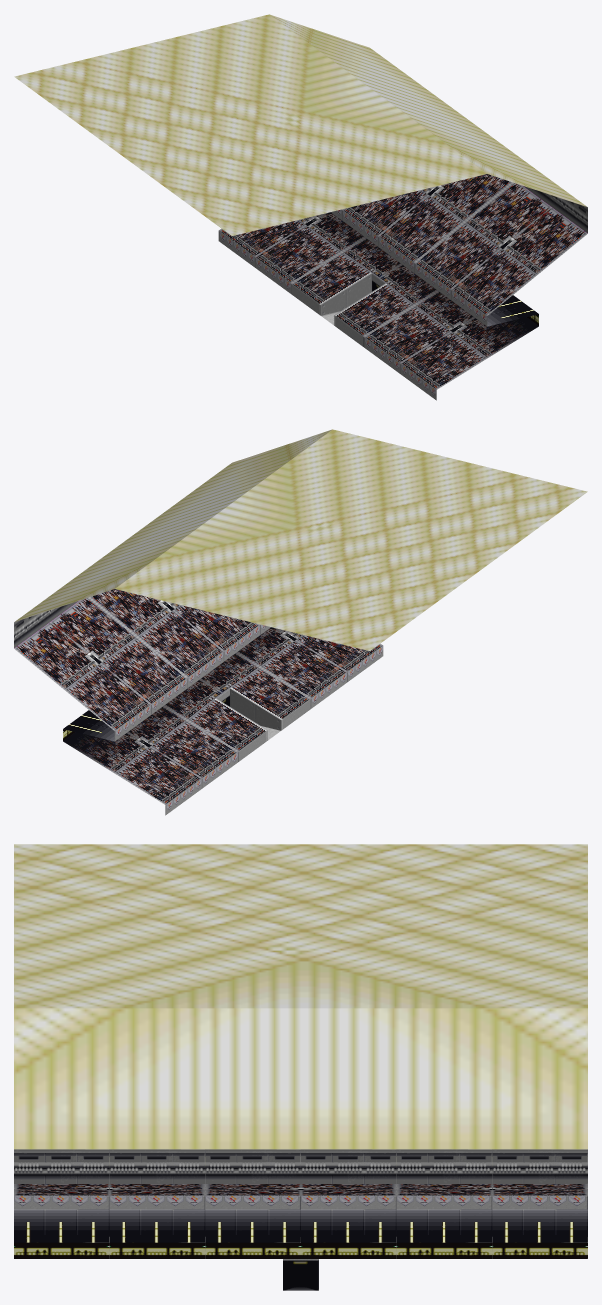
3 renders of one model, top to bottom at view 1: azimuth 30°, elevation 25°; view 2: azimuth 150°, elevation 25°; view 3: azimuth 270°, elevation 25°, orthographic. The views are drawn at different scales.
Size of the model in its own units: 80.2 by 46.12 by 85.05.
9 materials, 9 textured.
